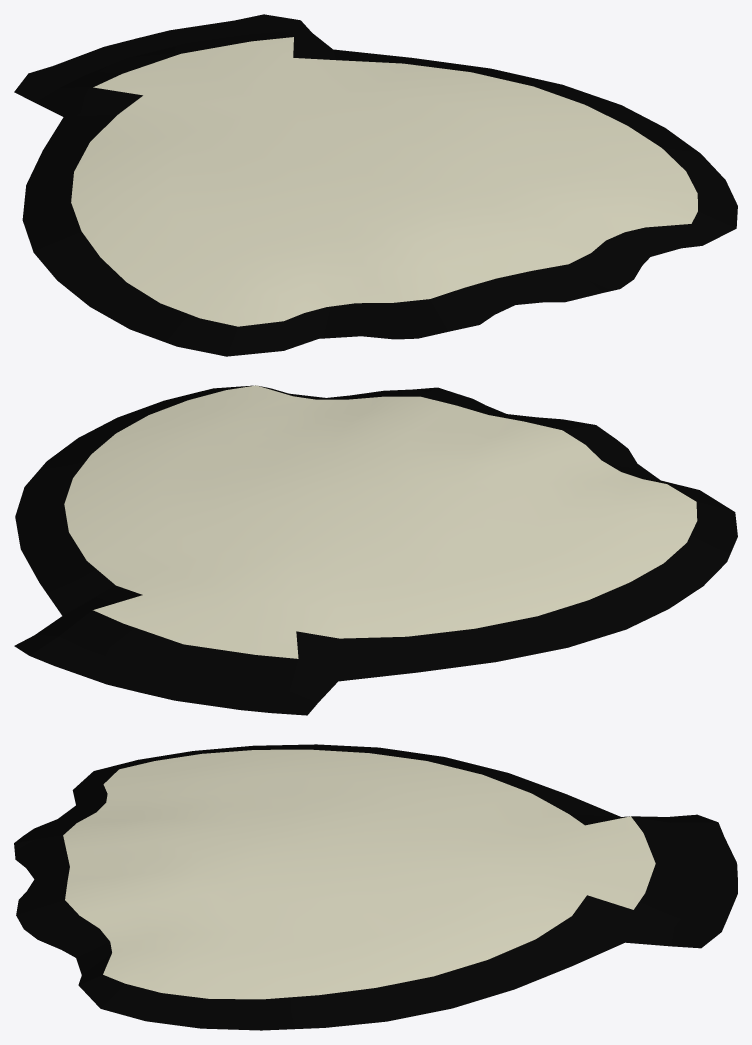
Rendered from TerrenoIslaTropical.fbx.
The picture shows the model from 3 angles, top to bottom: view 1: azimuth 30°, elevation 25°; view 2: azimuth 150°, elevation 25°; view 3: azimuth 270°, elevation 25°; orthographic projection. The views are drawn at different scales.
Visible parts, largest first — view 1: TerrenoTropico; view 2: TerrenoTropico; view 3: TerrenoTropico.
Boxes of the visible parts, x1=… form: TerrenoTropico: x1=14, y1=14, x2=737, y2=356; TerrenoTropico: x1=14, y1=385, x2=737, y2=715; TerrenoTropico: x1=14, y1=744, x2=737, y2=1030.
Size of the model in its own units: 6845 by 421 by 7354.
